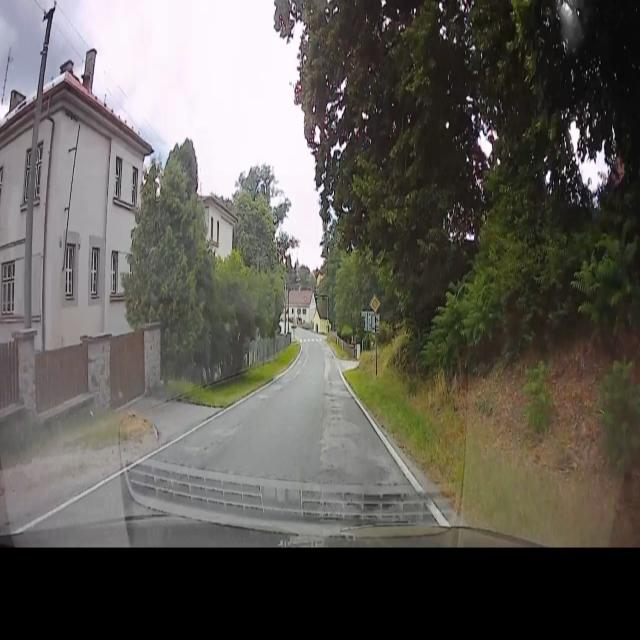Pedestrian crosswalk: (325, 317, 330, 327)
